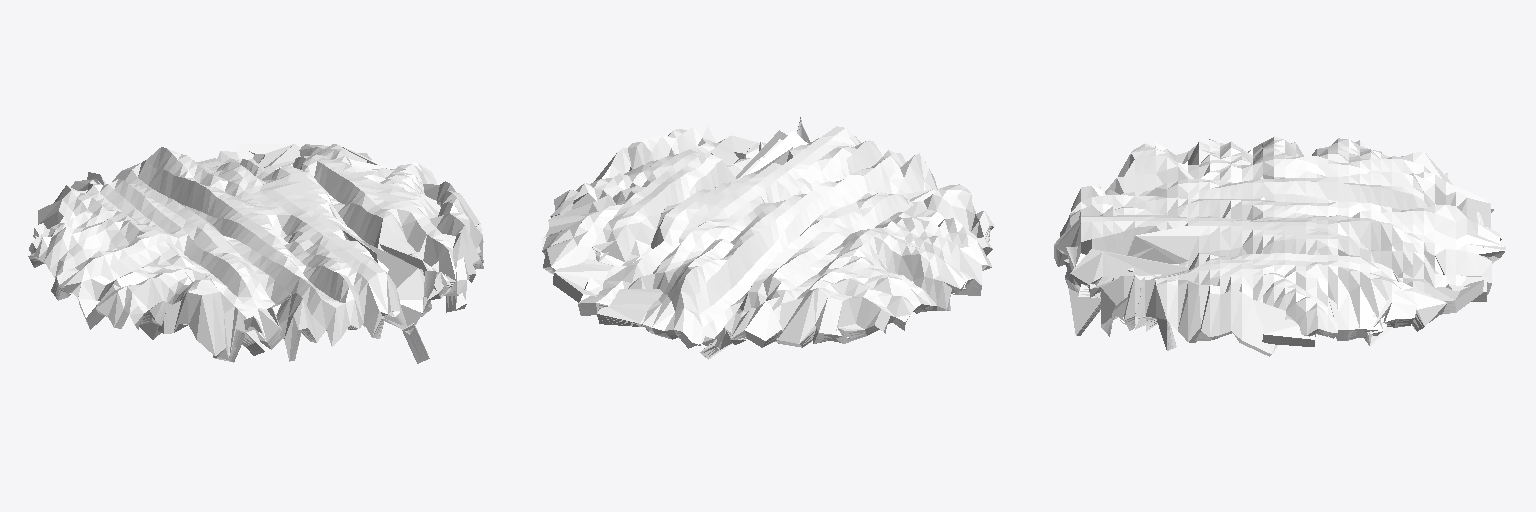
File: KBr_on-beaker.obj
The picture shows the model from 3 angles: view 1: azimuth 30°, elevation 25°; view 2: azimuth 150°, elevation 25°; view 3: azimuth 270°, elevation 25°; orthographic projection.
Visible parts, largest first — view 1: KBr_on_KBr_beaker; view 2: KBr_on_KBr_beaker; view 3: KBr_on_KBr_beaker.
Part boxes in pixels (left/top/right/bottom): KBr_on_KBr_beaker: left=28, top=144, right=483, bottom=363; KBr_on_KBr_beaker: left=541, top=117, right=994, bottom=359; KBr_on_KBr_beaker: left=1054, top=136, right=1505, bottom=356.
Bounding box in the file's own units: 18.77 × 4.6 × 18.85.